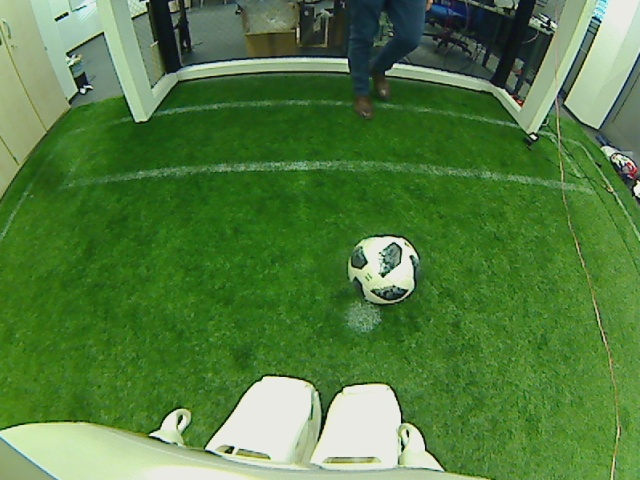ball: (347, 232, 420, 305)
